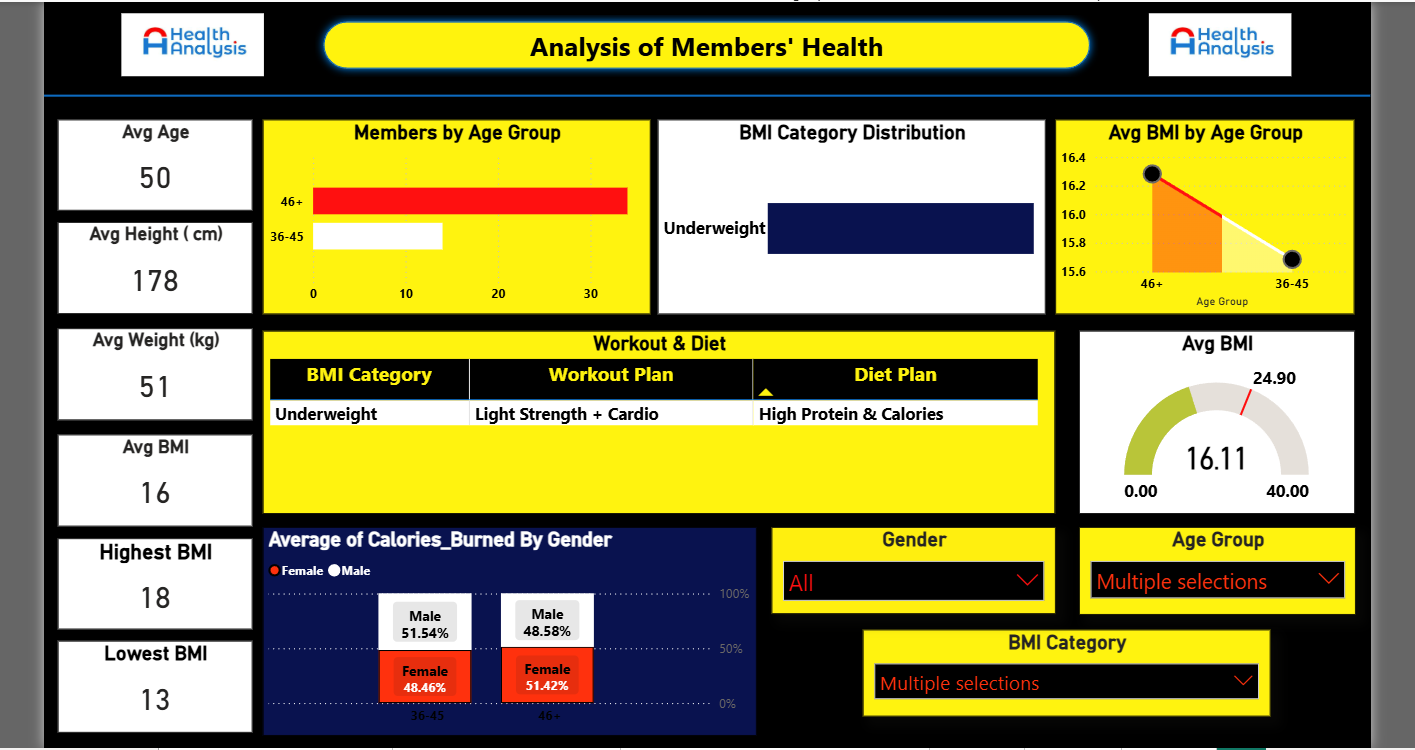

The dashboard page shown, as its layout file describes it:
{"tool":"powerbi","page":{"name":"Analysis Of Members Health","canvas":[1280,720],"ordinal":1},"visuals":[{"type":"shape","box":[261.4,11.4,755.7,61.4],"z":0},{"type":"image","box":[48.6,10.8,190.5,60.8],"z":1000},{"type":"image","box":[1040.5,10.8,190.5,60.8],"z":2000},{"type":"card","title":"Avg Age","fields":{"Values":["Avg(GymData.Age)"]},"box":[13.5,113.5,187.8,87.8],"z":3000},{"type":"card","title":"Avg Height ( cm)","fields":{"Values":["Avg(GymData.Height_cm)"]},"box":[13.5,212.2,187.8,89.2],"z":4000},{"type":"card","title":"Avg Weight (kg)","fields":{"Values":["Avg(GymData.Weight_kg)"]},"box":[13.5,314.9,187.8,89.2],"z":5000},{"type":"card","title":"Avg BMI","fields":{"Values":["Avg(GymData.BMI)"]},"box":[13.5,417.6,187.8,89.2],"z":6000},{"type":"card","title":"Highest BMI","fields":{"Values":["GymData.Highest BMI"]},"box":[13.5,517.6,187.8,87.8],"z":7000},{"type":"card","title":"Lowest BMI","fields":{"Values":["Min(GymData.BMI)"]},"box":[13.5,616.2,187.8,89.2],"z":8000},{"type":"shape","box":[0,40.7,1280.2,98.8],"z":9000},{"type":"clusteredBarChart","title":"Members by Age Group","fields":{"Category":["GymData.Age Group"],"Y":["GymData.Total Members"]},"box":[210.8,113.5,374.3,187.8],"z":10000},{"type":"funnel","title":"BMI Category Distribution","fields":{"Category":["GymData.BMI Category"],"Y":["GymData.Total Members"]},"box":[591.9,113.5,374.3,187.8],"z":11000},{"type":"lineChart","title":"Avg BMI by Age Group","fields":{"Category":["GymData.Age Group"],"Y":["GymData.Avg BMI"]},"box":[975.7,113.5,289.2,187.8],"z":12000},{"type":"tableEx","title":"Workout & Diet","fields":{"Values":["GymData.BMI Category","GymData.Workout Plan","GymData.Diet Plan"]},"box":[210.8,317.6,764.9,177],"z":13000},{"type":"gauge","fields":{"Y":["GymData.Avg BMI"]},"box":[998.6,317.6,266.2,177],"z":14000},{"type":"hundredPercentStackedColumnChart","title":"Average of Calories_Burned  By Gender","fields":{"Category":["GymData.Age Group"],"Y":["Avg(GymData.Calories_Burned)"],"Series":["GymData.Gender"]},"box":[210.8,506.8,477,201.4],"z":15000},{"type":"slicer","title":"Age Group","fields":{"Values":["GymData.Age Group"]},"box":[998.6,506.8,267.6,85.1],"z":16000},{"type":"slicer","title":"BMI Category","fields":{"Values":["GymData.BMI Category"]},"box":[790.5,605.4,393.2,83.8],"z":17000},{"type":"slicer","title":"Gender","fields":{"Values":["GymData.Gender"]},"box":[702.7,506.8,274.3,83.8],"z":18000}]}

Visuals, with their boxes in screenshot pixels (x1, y1, x2, y2):
shape: box=[313, 12, 1091, 75]
image: box=[94, 11, 290, 74]
image: box=[1116, 11, 1312, 74]
"Avg Age" card: box=[58, 117, 251, 207]
"Avg Height ( cm)" card: box=[58, 218, 251, 310]
"Avg Weight (kg)" card: box=[58, 324, 251, 416]
"Avg BMI" card: box=[58, 430, 251, 522]
"Highest BMI" card: box=[58, 533, 251, 623]
"Lowest BMI" card: box=[58, 634, 251, 726]
shape: box=[44, 42, 1362, 144]
"Members by Age Group" clusteredBarChart: box=[261, 117, 647, 310]
"BMI Category Distribution" funnel: box=[654, 117, 1039, 310]
"Avg BMI by Age Group" lineChart: box=[1049, 117, 1347, 310]
"Workout & Diet" tableEx: box=[261, 327, 1049, 509]
gauge - GymData.Avg BMI: box=[1072, 327, 1346, 509]
"Average of Calories_Burned  By Gender" hundredPercentStackedColumnChart: box=[261, 522, 752, 729]
"Age Group" slicer: box=[1072, 522, 1348, 609]
"BMI Category" slicer: box=[858, 623, 1263, 710]
"Gender" slicer: box=[768, 522, 1050, 608]
